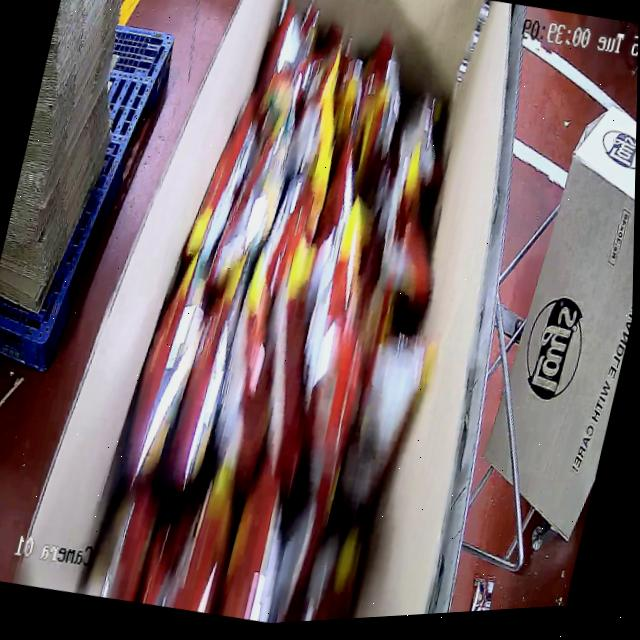MASALA: (79, 0, 502, 634)
